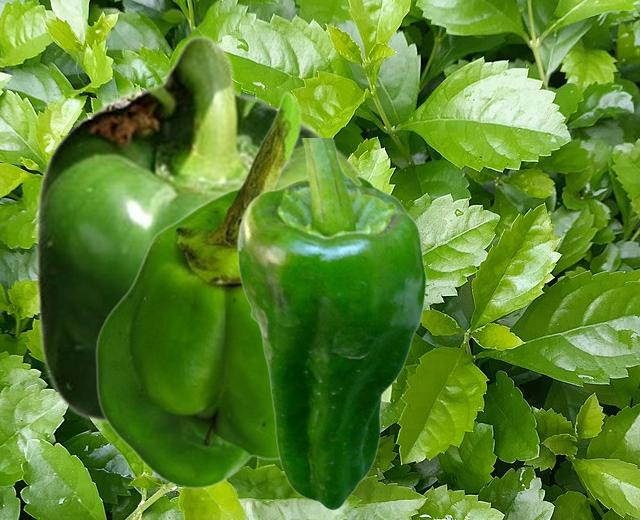bell_pepper: (33, 34, 366, 428), (94, 90, 305, 488), (236, 138, 426, 510)
